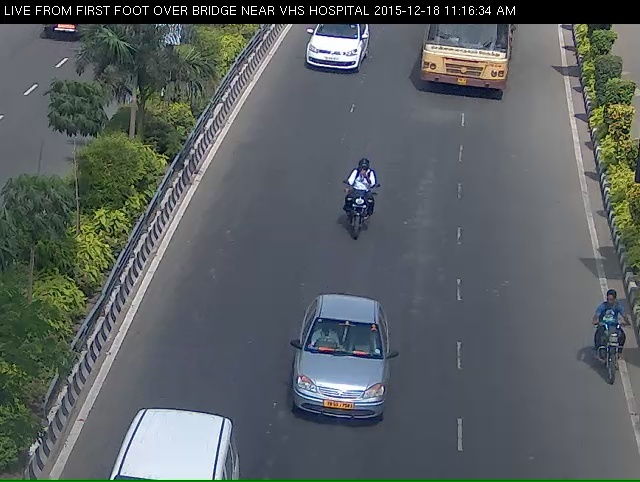Bus: (416, 22, 517, 102)
Car: (285, 314, 393, 454), (299, 19, 365, 82)
Person: (593, 295, 632, 385), (337, 169, 378, 253)
